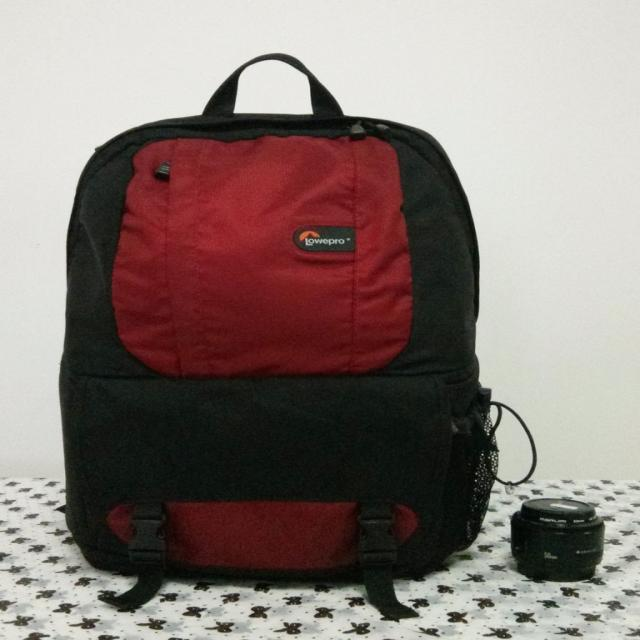backpack: (61, 52, 502, 580)
